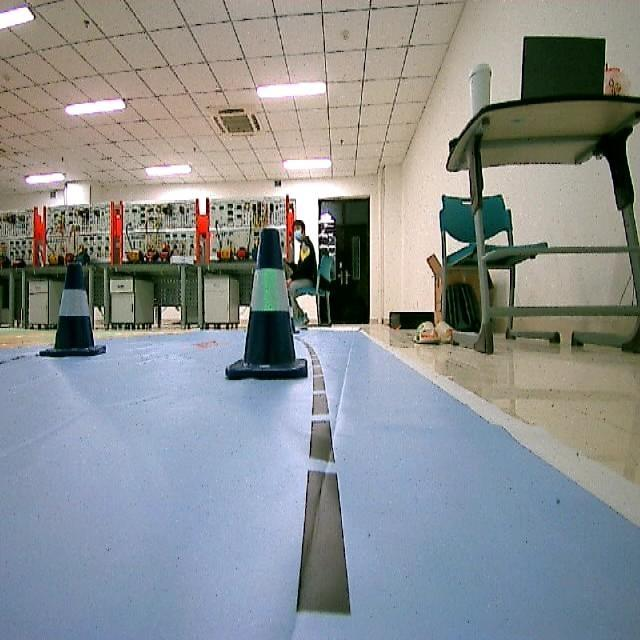obstacle: (220, 224, 306, 382), (42, 260, 110, 362)
